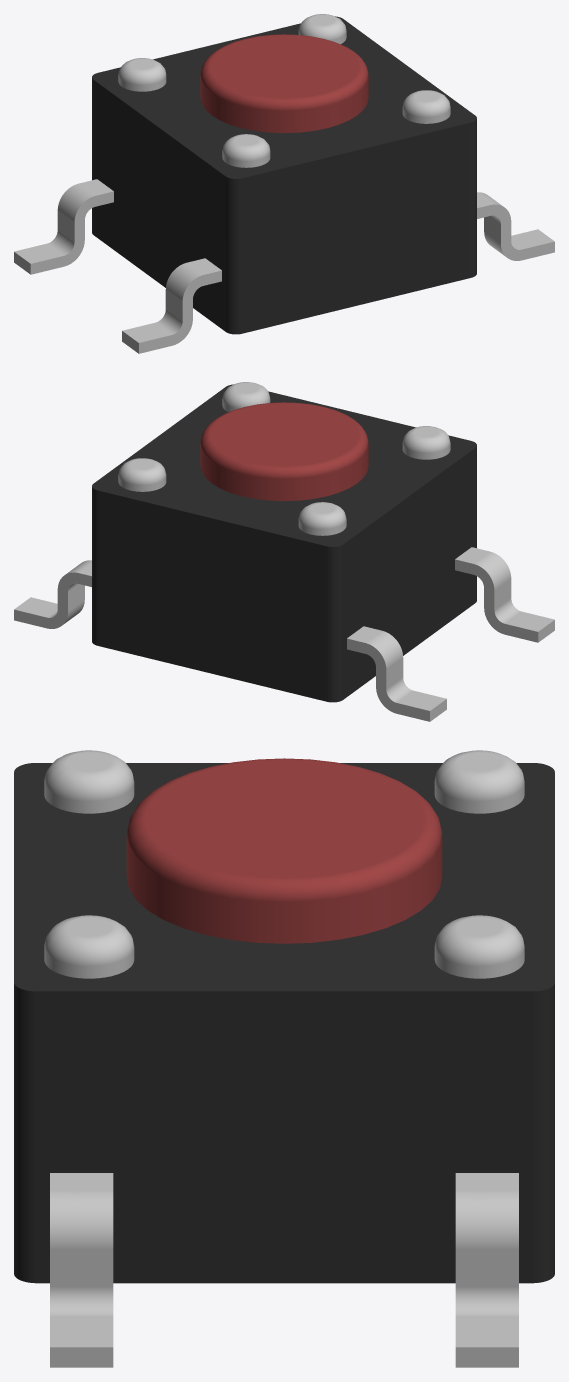
Rendered from PushButton.fbx.
3 renders of one model, top to bottom at view 1: azimuth 30°, elevation 25°; view 2: azimuth 150°, elevation 25°; view 3: azimuth 270°, elevation 25°, orthographic. The views are drawn at different scales.
Visible parts, largest first — view 1: SOLID, SOLID.001; view 2: SOLID, SOLID.001; view 3: SOLID, SOLID.001.
Part boxes in pixels (<box>): SOLID: <box>14,87,554,353</box>; SOLID.001: <box>92,14,476,187</box>; SOLID: <box>14,455,554,721</box>; SOLID.001: <box>92,382,476,555</box>; SOLID: <box>14,999,554,1367</box>; SOLID.001: <box>14,750,554,1007</box>.
Size of the model in its own units: 1 by 0.438 by 0.6.
